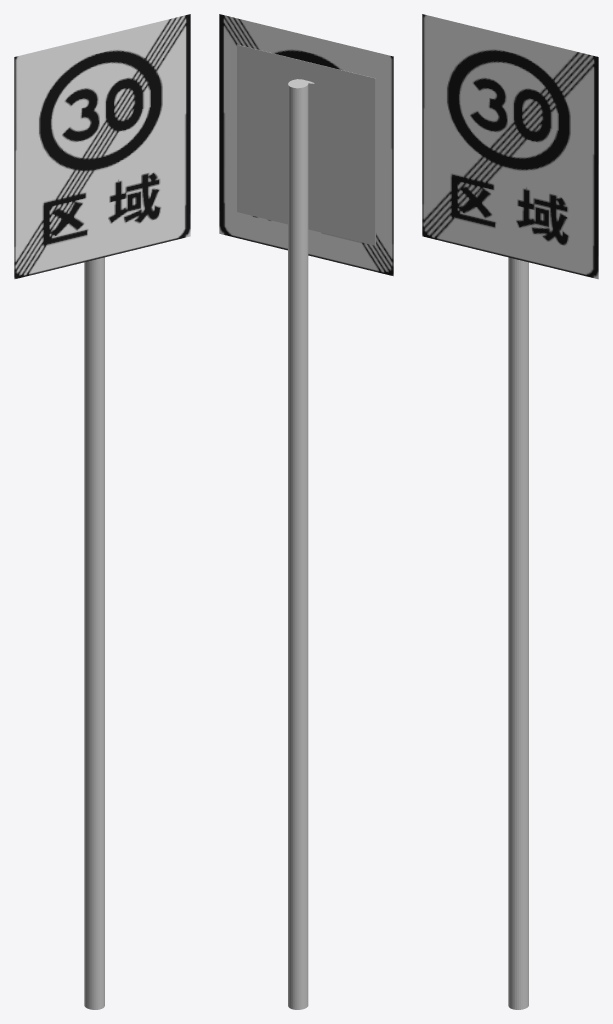
The picture shows the model from 3 angles, left to right: view 1: azimuth 30°, elevation 25°; view 2: azimuth 150°, elevation 25°; view 3: azimuth 330°, elevation 25°; orthographic projection.
Visible parts, largest first — view 1: SM_zhishipai_05; view 2: SM_zhishipai_05; view 3: SM_zhishipai_05.
Part boxes in pixels (bbox=[...]): SM_zhishipai_05: bbox=[14, 14, 190, 1009]; SM_zhishipai_05: bbox=[219, 14, 393, 1009]; SM_zhishipai_05: bbox=[422, 14, 598, 1009].
Size of the model in its own units: 3.21 by 16.98 by 0.4286.
Materials: 2 (1 with a texture image).
